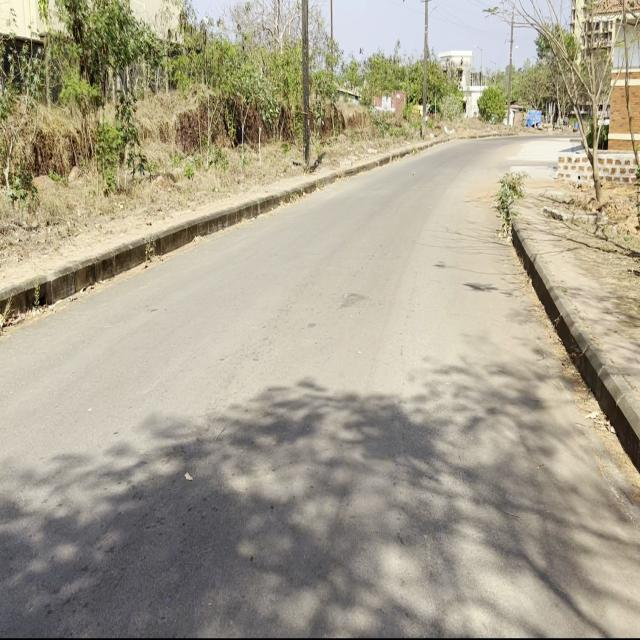Road: (0, 143, 640, 636)
